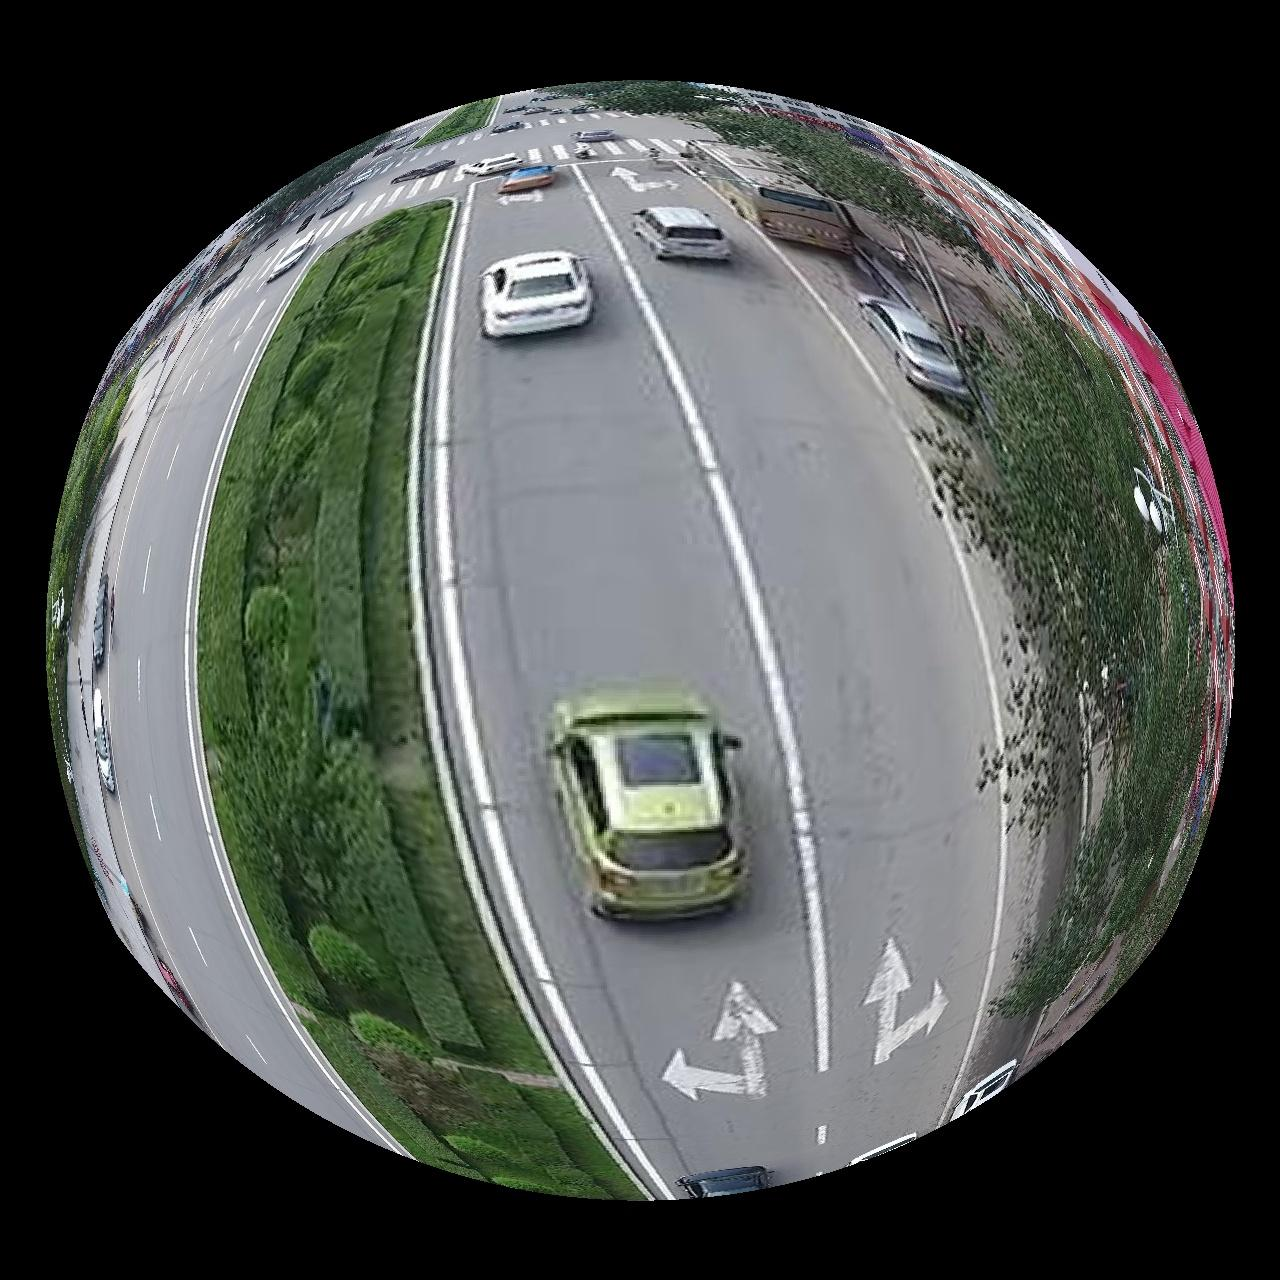cars: (550, 681, 749, 921), (685, 139, 855, 252), (860, 293, 972, 399), (482, 248, 593, 336), (635, 206, 731, 259)
trees: (197, 200, 639, 1199), (958, 304, 1234, 1019)
